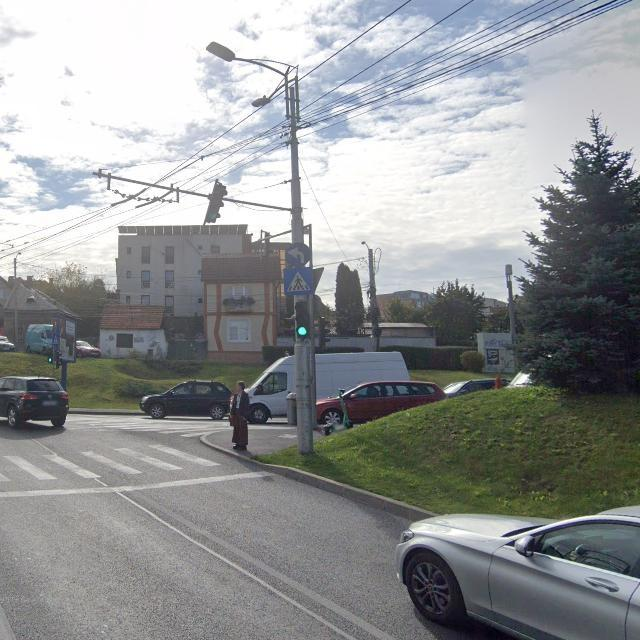info_crosswalk: (283, 267, 314, 295), (285, 243, 312, 268)
